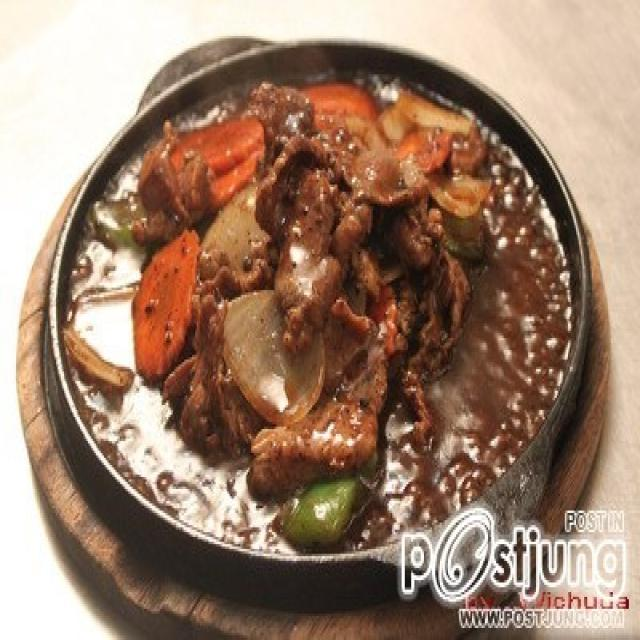牛肉菜式: (52, 41, 578, 580)
